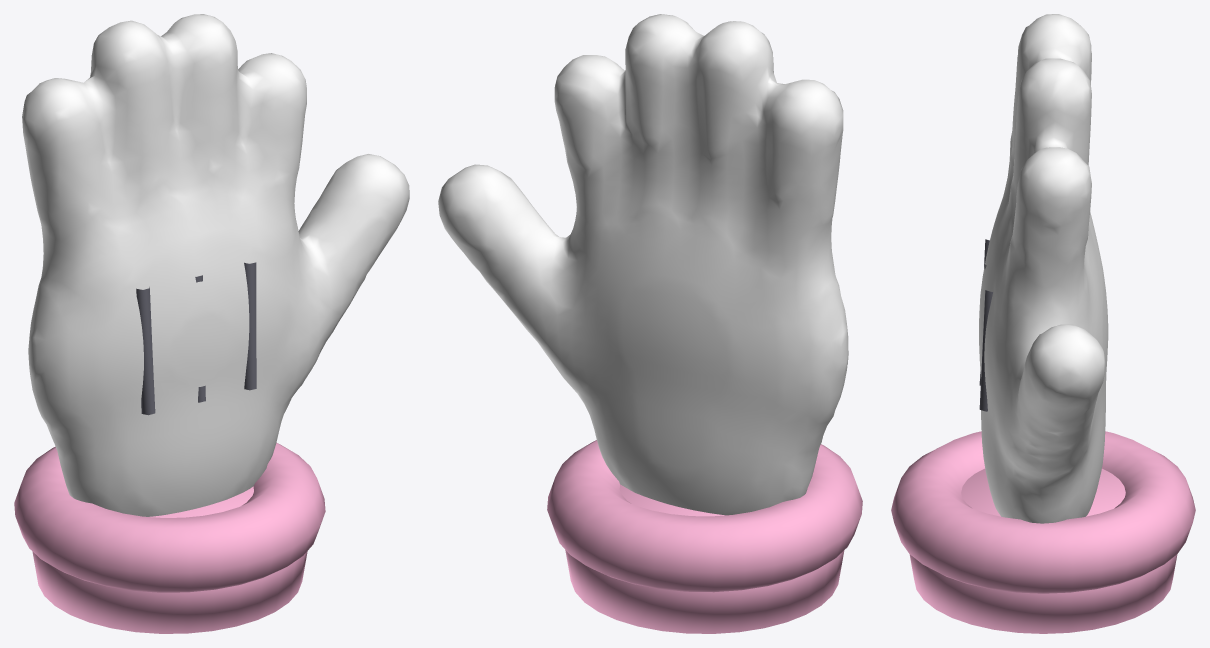
The model's file is SlaparazziGlove.glb.
The picture shows the model from 3 angles, left to right: view 1: azimuth 30°, elevation 25°; view 2: azimuth 150°, elevation 25°; view 3: azimuth 270°, elevation 25°; orthographic projection. The views are drawn at different scales.
Visible parts, largest first — view 1: Glove, Cuff, Stitch; view 2: Glove, Cuff; view 3: Glove, Cuff, Stitch.
Part boxes in pixels (bbox=[...]): Glove: bbox=[22, 14, 409, 516]; Cuff: bbox=[14, 442, 325, 633]; Stitch: bbox=[136, 262, 256, 415]; Glove: bbox=[438, 14, 848, 515]; Cuff: bbox=[547, 440, 862, 633]; Glove: bbox=[979, 14, 1108, 523]; Cuff: bbox=[891, 431, 1195, 633]; Stitch: bbox=[979, 239, 992, 411].
Size of the model in its own units: 2.27 by 3.16 by 1.6.
